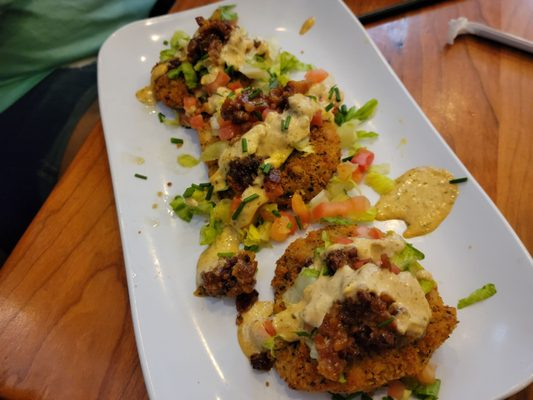sushi: (21, 0, 531, 399)
